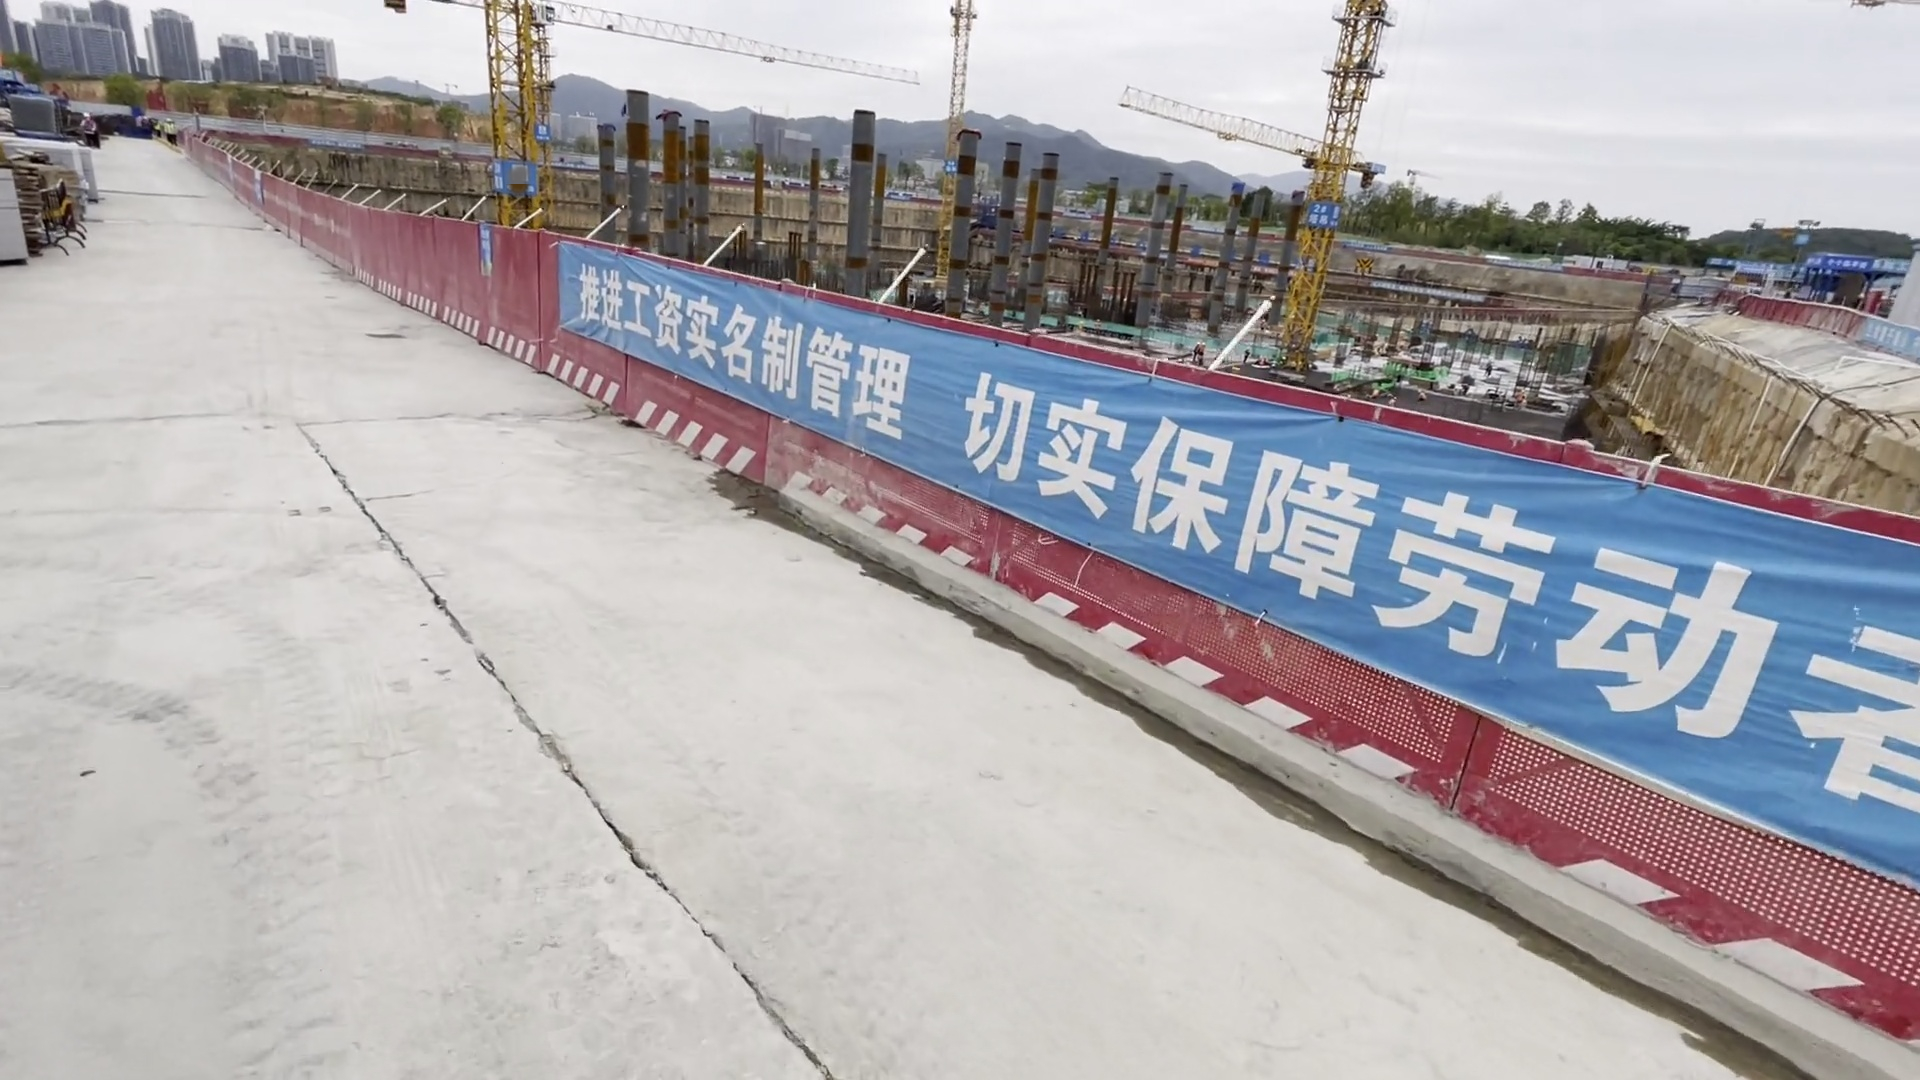fence: (546, 257, 1902, 1080), (177, 137, 556, 382)
slogan: (555, 241, 1920, 895)
